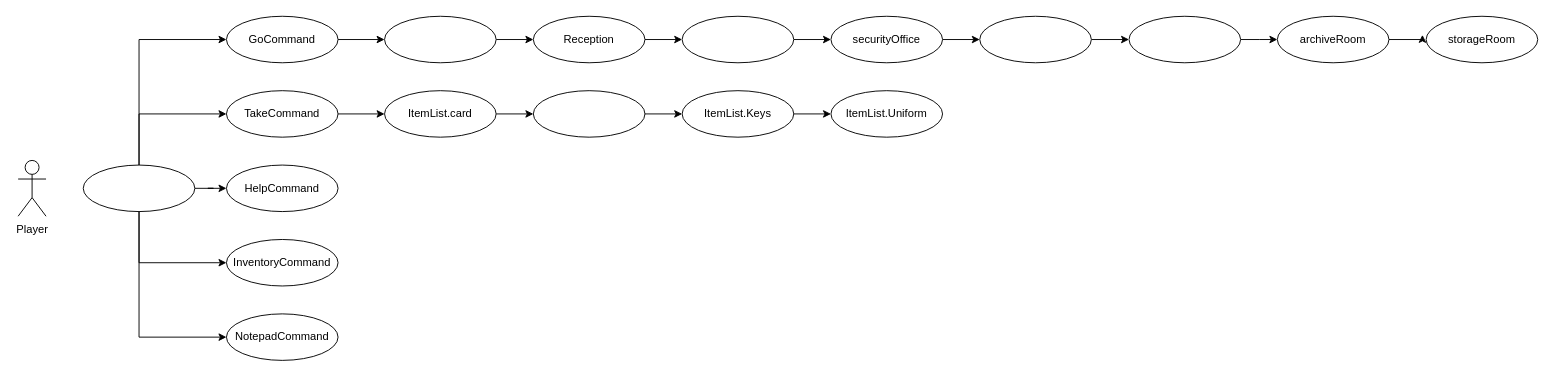
The diagram is 1554 pixels wide and 377 high, and some of its shapes have lost their labels. Each missing label, with the centre of its shape:
"cellBlock" belongs at (1035,39).
"CommandReader" belongs at (138,188).
"ItemList.Notepad" belongs at (588,113).
"kitchen" belongs at (1184,39).
"Outside" belongs at (440,39).
"staffRoom" belongs at (737,39).
